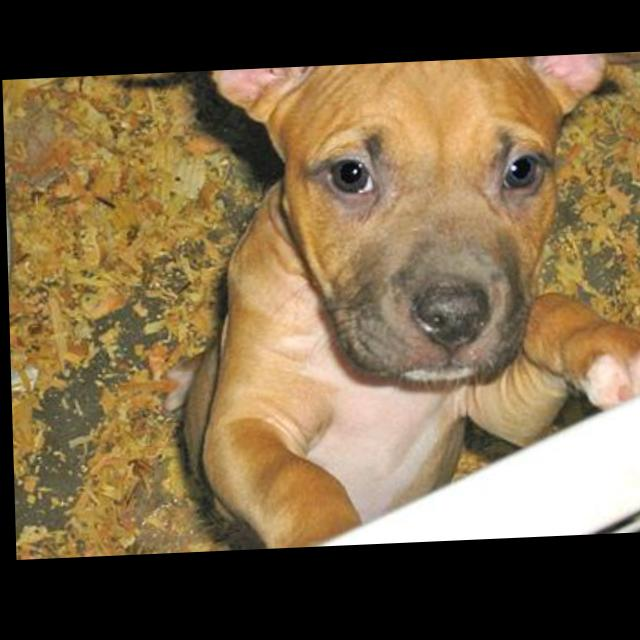amstaff: (117, 59, 640, 557)
